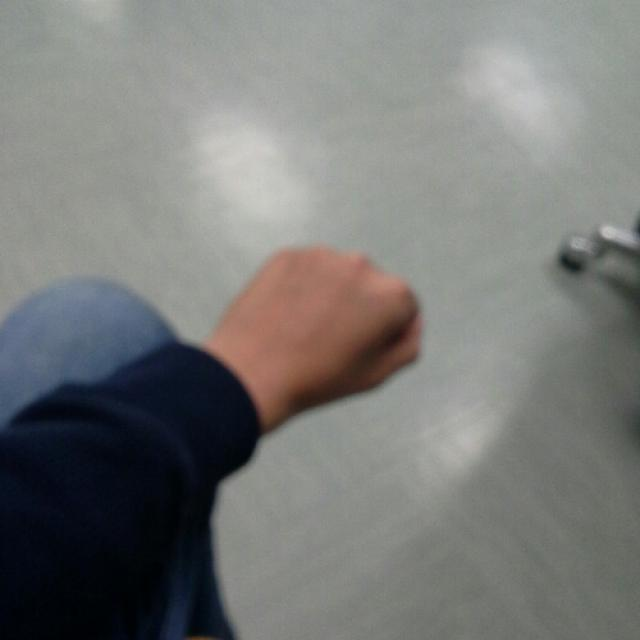rock: (234, 243, 422, 407)
